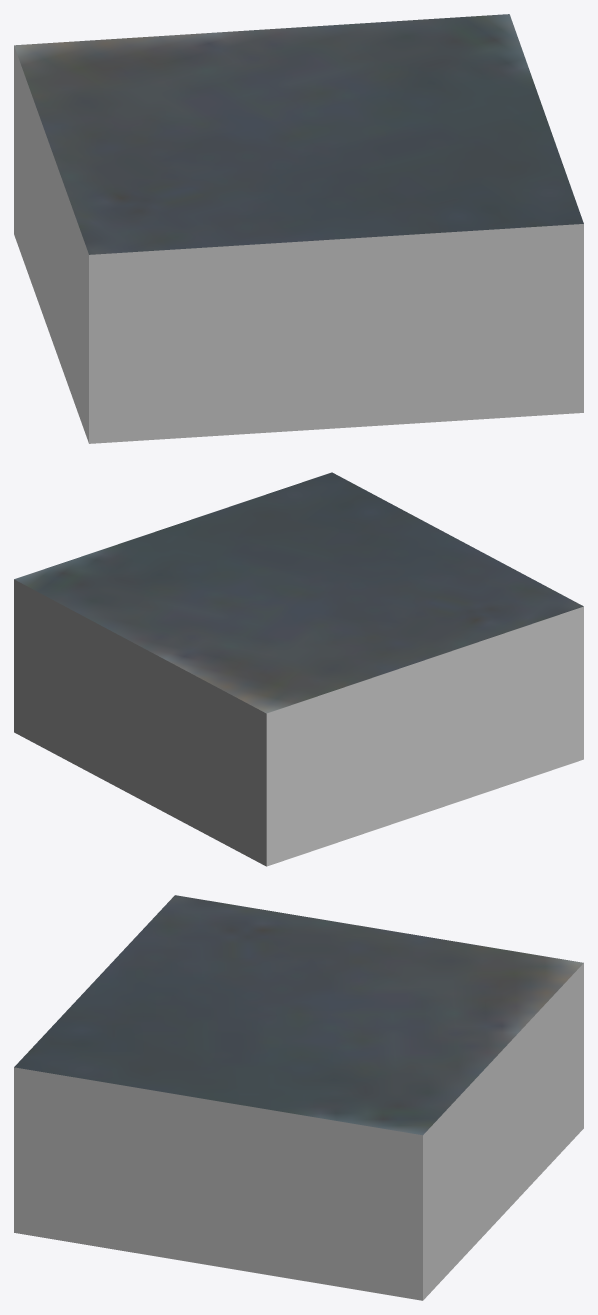
File: DEBW_0010007Txf3.gltf
The picture shows the model from 3 angles, top to bottom: view 1: azimuth 30°, elevation 25°; view 2: azimuth 150°, elevation 25°; view 3: azimuth 270°, elevation 25°; orthographic projection. The views are drawn at different scales.
Visible parts, largest first — view 1: Z_UP; view 2: Z_UP; view 3: Z_UP.
Part boxes in pixels (x1=…): Z_UP: x1=14, y1=14, x2=583, y2=443; Z_UP: x1=14, y1=472, x2=583, y2=866; Z_UP: x1=14, y1=895, x2=583, y2=1300.
Bounding box in the file's own units: 7.38 × 2.37 × 7.4.
2 materials, 1 textured.
